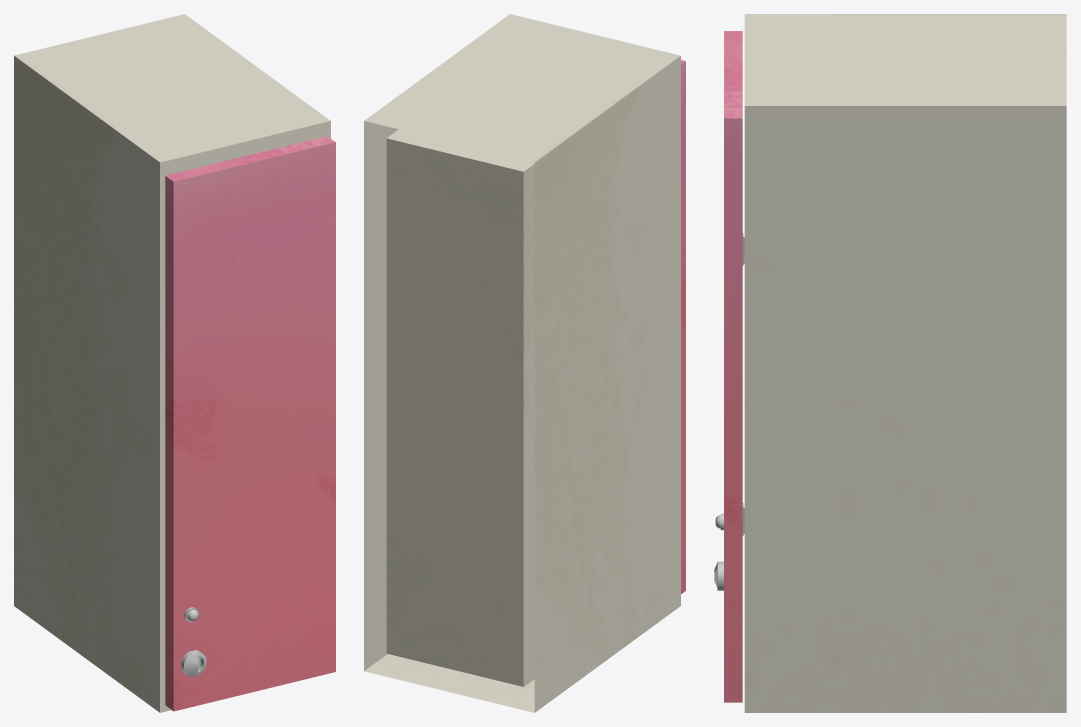
File: locker.fbx
3 views of the same model, side by side, from view 1: azimuth 30°, elevation 25°; view 2: azimuth 150°, elevation 25°; view 3: azimuth 270°, elevation 25° (orthographic). The views are drawn at different scales.
Visible parts, largest first — view 1: loker_part_2, loker_part_1, loker_part_5; view 2: loker_part_2, loker_part_1; view 3: loker_part_2, loker_part_1.
Boxes of the visible parts, x1=… form: loker_part_2: x1=14, y1=14, x2=330, y2=712; loker_part_1: x1=165, y1=136, x2=335, y2=711; loker_part_5: x1=181, y1=650, x2=206, y2=676; loker_part_2: x1=364, y1=14, x2=680, y2=712; loker_part_1: x1=681, y1=60, x2=685, y2=593; loker_part_2: x1=744, y1=14, x2=1066, y2=712; loker_part_1: x1=724, y1=31, x2=742, y2=702.
Size of the model in its own units: 40.27 by 124 by 65.31.
Materials: 1 (1 with a texture image).
